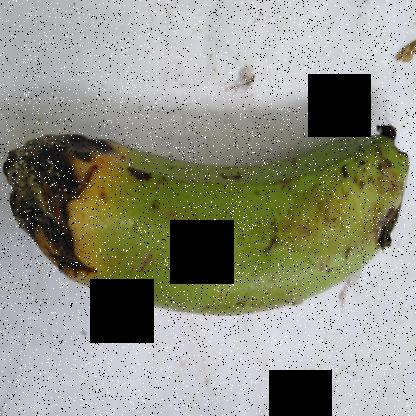rotten: (0, 117, 128, 297)
unripe: (108, 99, 415, 336)
